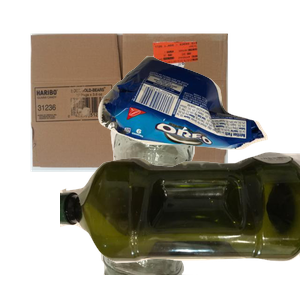cardboard: (28, 31, 249, 195)
glass: (98, 120, 286, 300)
plastic: (60, 149, 300, 300)
trash: (95, 53, 300, 195)
